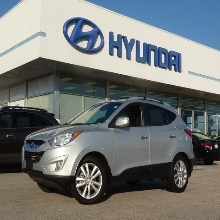no damage: (20, 96, 194, 205), (1, 106, 60, 168), (192, 131, 218, 164)
